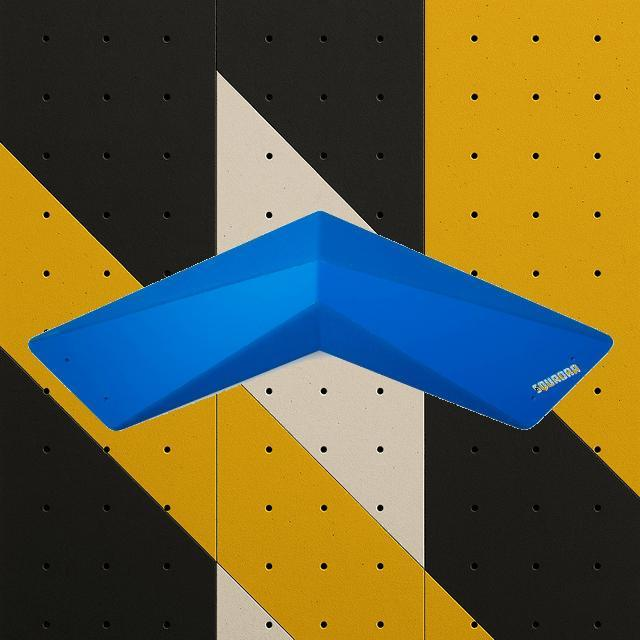Volume: (27, 210, 617, 432)
